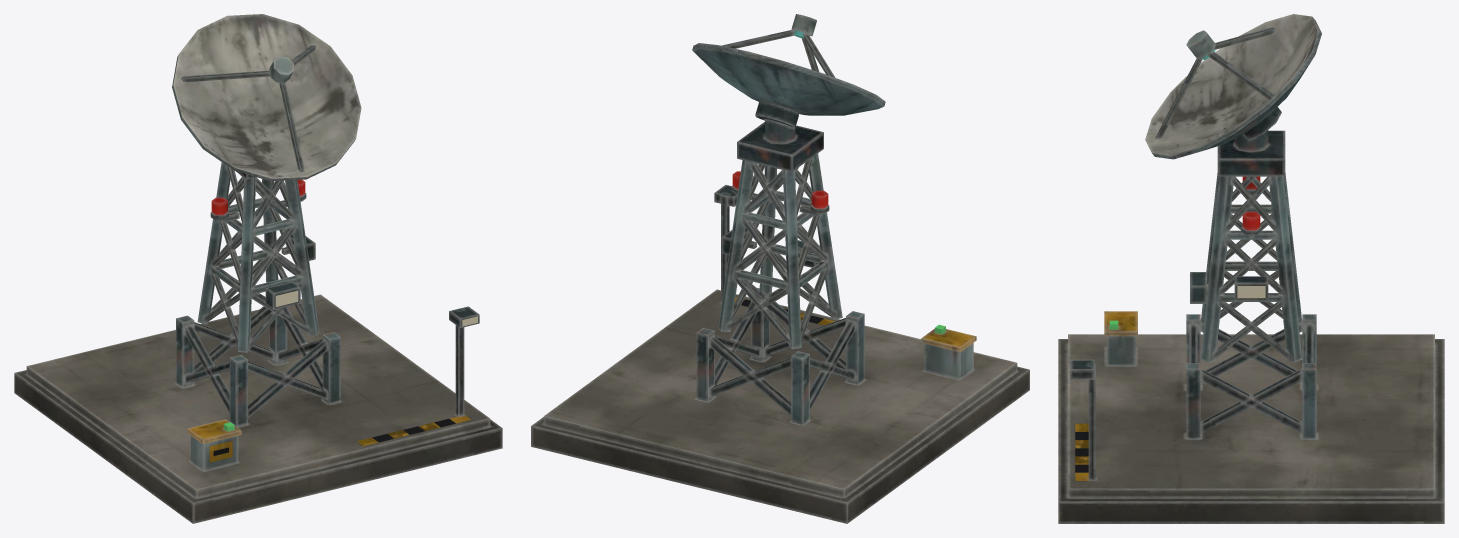
File: orbital_collector.glb
3 renders of one model, left to right at view 1: azimuth 30°, elevation 25°; view 2: azimuth 150°, elevation 25°; view 3: azimuth 270°, elevation 25°, orthographic. The views are drawn at different scales.
Parts seen in each view (by area): view 1: te_orbital_collector, move_dish; view 2: te_orbital_collector, move_dish; view 3: te_orbital_collector, move_dish.
Boxes of the visible parts, left/top/right/bottom form: te_orbital_collector: left=14, top=162, right=502, bottom=523; move_dish: left=172, top=14, right=361, bottom=181; te_orbital_collector: left=531, top=122, right=1029, bottom=523; move_dish: left=692, top=14, right=885, bottom=143; te_orbital_collector: left=1058, top=130, right=1444, bottom=523; move_dish: left=1145, top=14, right=1321, bottom=159.
Bounding box in the file's own units: 0.8 × 0.9435 × 0.8.
Materials: 1 (1 with a texture image).
